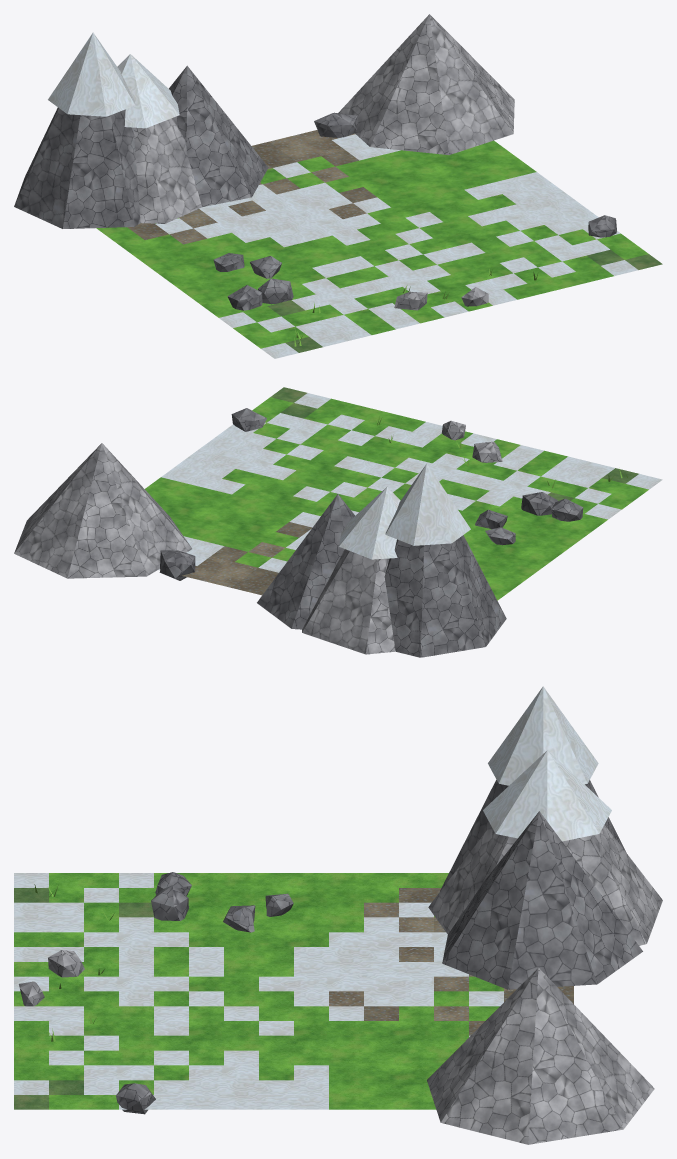
The model's file is chunk_9_1.glb.
3 views of the same model, one above another, from view 1: azimuth 30°, elevation 25°; view 2: azimuth 150°, elevation 25°; view 3: azimuth 270°, elevation 25° (orthographic). The views are drawn at different scales.
Parts seen in each view (by area): view 1: chunk_9_1; view 2: chunk_9_1; view 3: chunk_9_1.
Part boxes in pixels (bbox=[...]): chunk_9_1: bbox=[14, 14, 662, 358]; chunk_9_1: bbox=[14, 387, 662, 657]; chunk_9_1: bbox=[14, 686, 662, 1144].
Size of the model in its own units: 20.01 by 6.98 by 18.54.
Materials: 8 (7 with a texture image).
